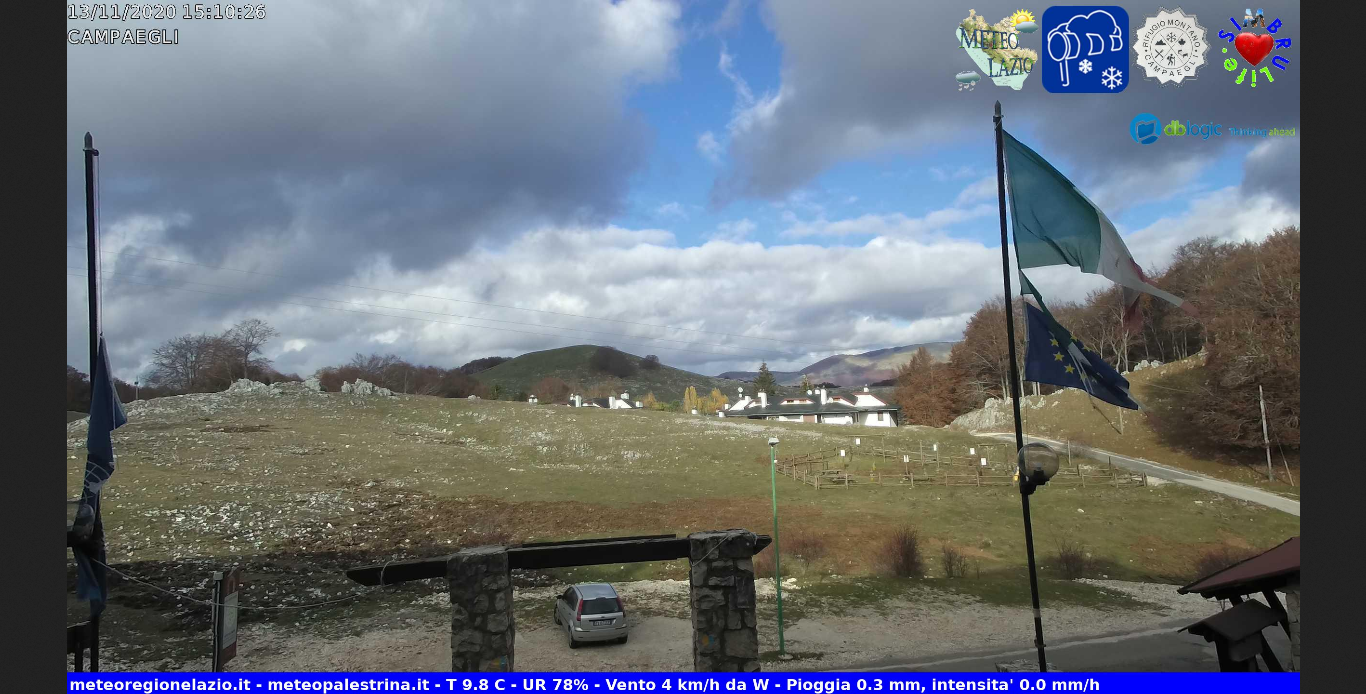maybe: (985, 94, 1216, 321), (1001, 290, 1147, 422)
